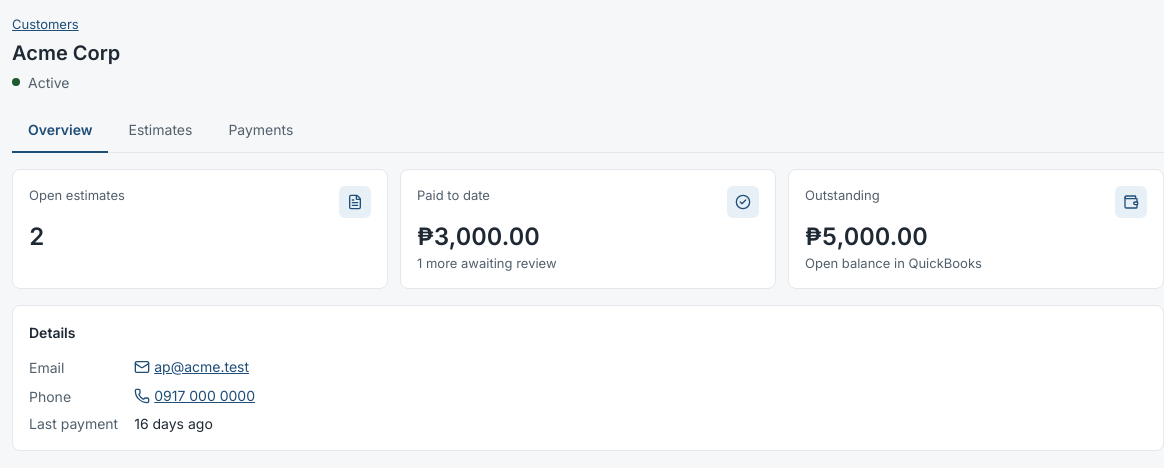
Test: Customer detail › shows the three summary figures, then the payments tab
Expected: the heading "Acme Corp" is shown, 12,40 -> 120,66
Expected: the text "Open estimates" is shown, 29,186 -> 125,204
Step 1. Click the tab "Payments" → x=261, y=130, box 212,108 -> 309,152
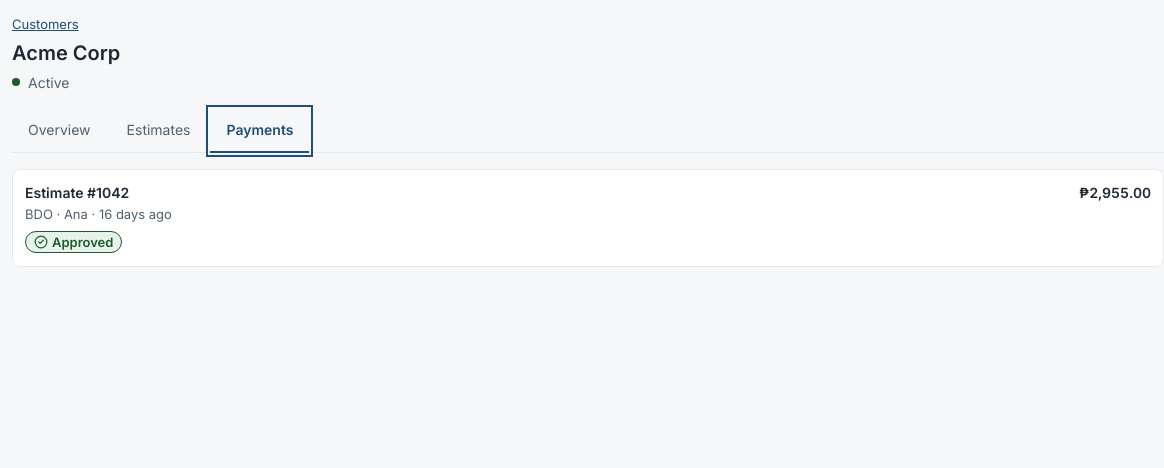
Expected: the text "Estimate #1042" is shown, 25,182 -> 129,202
